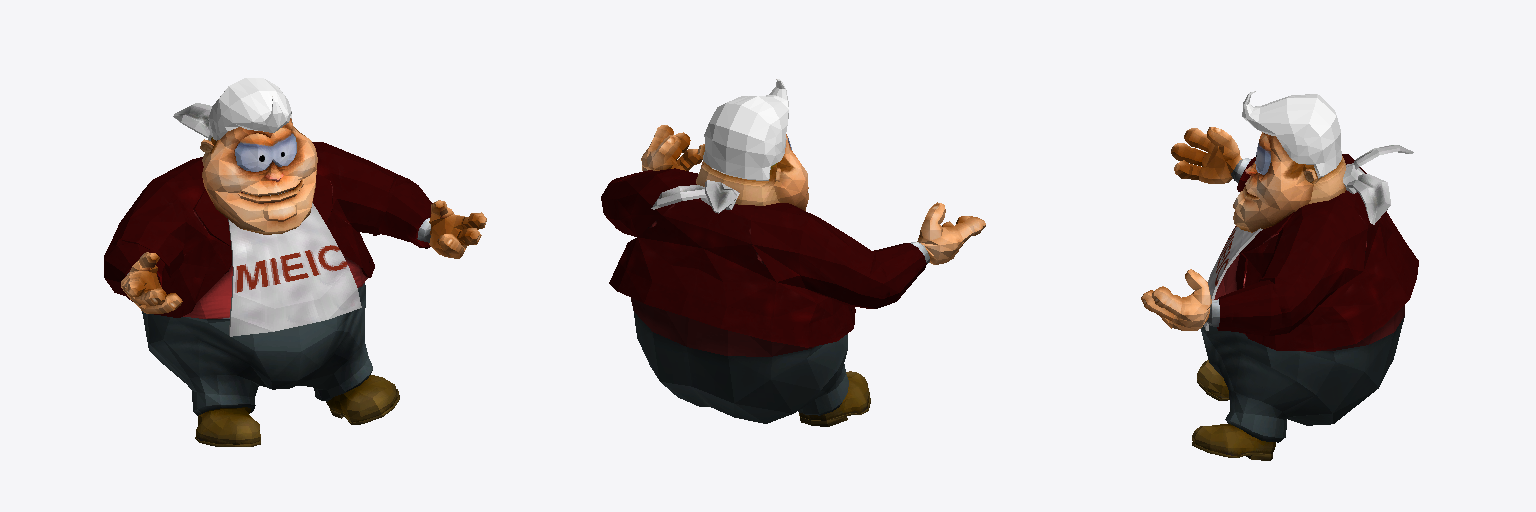
3 views of the same model, side by side, from view 1: azimuth 30°, elevation 25°; view 2: azimuth 150°, elevation 25°; view 3: azimuth 270°, elevation 25° (orthographic).
Visible parts, largest first — view 1: DrawCall_117, DrawCall_108, DrawCall_121; view 2: DrawCall_108, DrawCall_117, DrawCall_121; view 3: DrawCall_108, DrawCall_117, DrawCall_121.
Boxes of the visible parts, box(x1,y1,x2,y2) form: DrawCall_117: box(142, 103, 399, 446); DrawCall_108: box(104, 142, 486, 318); DrawCall_121: box(200, 78, 317, 234); DrawCall_108: box(601, 125, 985, 356); DrawCall_117: box(633, 180, 870, 426); DrawCall_121: box(696, 79, 808, 210); DrawCall_108: box(1141, 127, 1418, 351); DrawCall_117: box(1192, 145, 1413, 460); DrawCall_121: box(1233, 91, 1345, 232).
Bounding box in the file's own units: 341 × 317 × 238.
Materials: 3 (3 with a texture image).